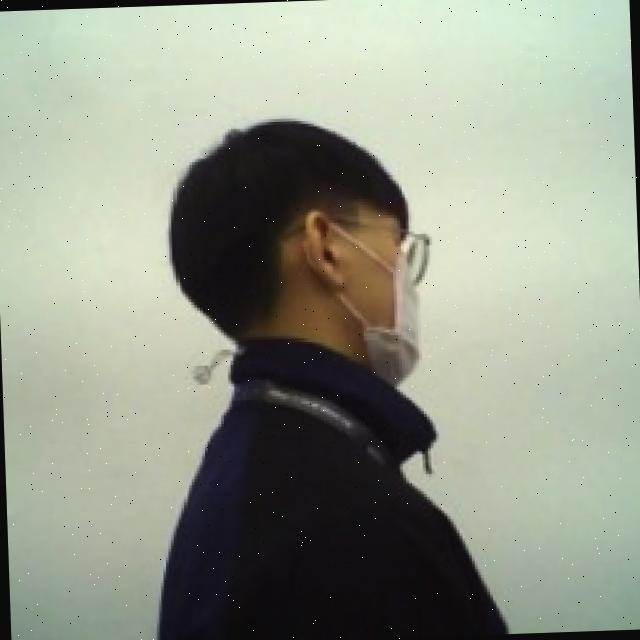mask: (296, 205, 438, 396)
no_gloves: (153, 109, 424, 344)
